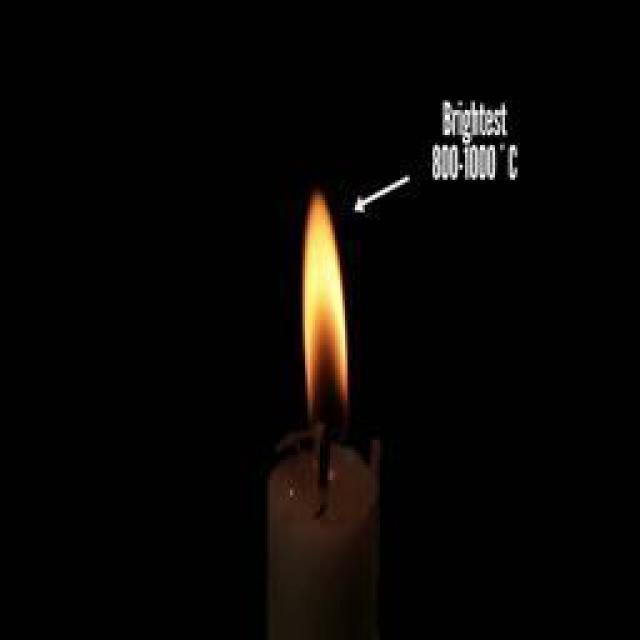Fire: (300, 194, 350, 404)
